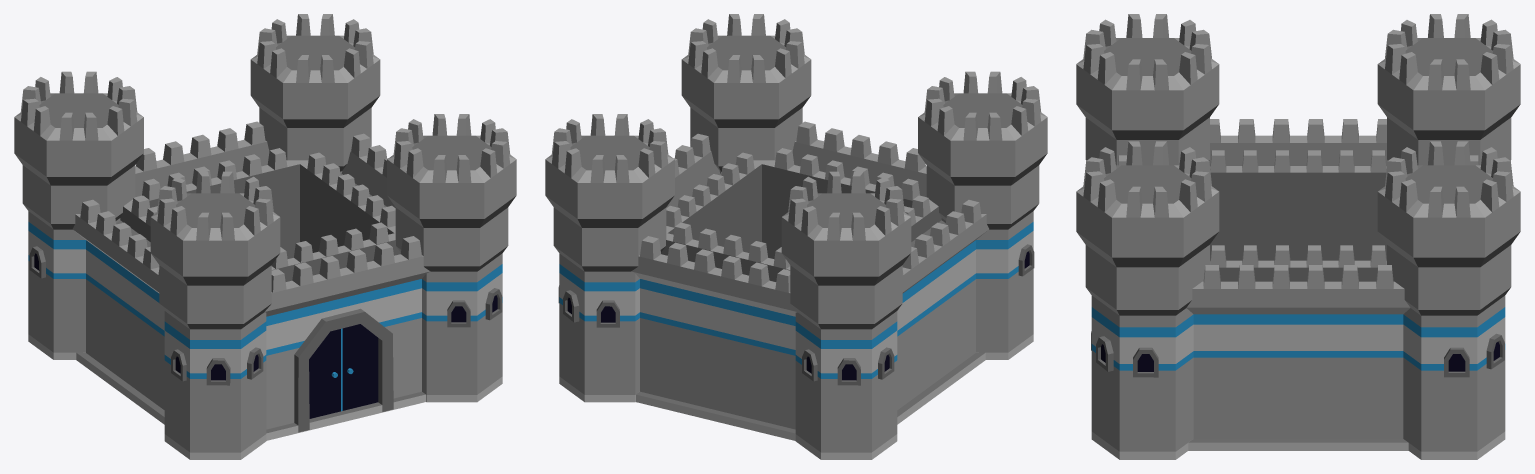
Rendered from Castle.glb.
3 views of the same model, side by side, from view 1: azimuth 30°, elevation 25°; view 2: azimuth 150°, elevation 25°; view 3: azimuth 270°, elevation 25° (orthographic). The views are drawn at different scales.
Visible parts, largest first — view 1: main, tower01, tower02, tower04, tower03, Cylinder002; view 2: main, tower04, tower03, tower01, tower02; view 3: main, tower02, tower03, tower01, tower04.
Part boxes in pixels (x1=…): main: x1=73, y1=121, x2=430, y2=440; tower01: x1=150, y1=171, x2=280, y2=459; tower02: x1=387, y1=114, x2=516, y2=402; tower04: x1=14, y1=71, x2=143, y2=359; tower03: x1=250, y1=14, x2=380, y2=173; Cylinder002: x1=294, y1=308, x2=393, y2=432; main: x1=631, y1=121, x2=988, y2=440; tower04: x1=781, y1=171, x2=911, y2=459; tower03: x1=545, y1=114, x2=674, y2=402; tower01: x1=918, y1=71, x2=1047, y2=359; tower02: x1=681, y1=14, x2=811, y2=173; main: x1=1118, y1=119, x2=1479, y2=450; tower02: x1=1076, y1=141, x2=1219, y2=459; tower03: x1=1377, y1=141, x2=1520, y2=459; tower01: x1=1076, y1=14, x2=1219, y2=165; tower04: x1=1377, y1=14, x2=1520, y2=165.
Bounding box in the file's own units: 653 × 462 × 682.
